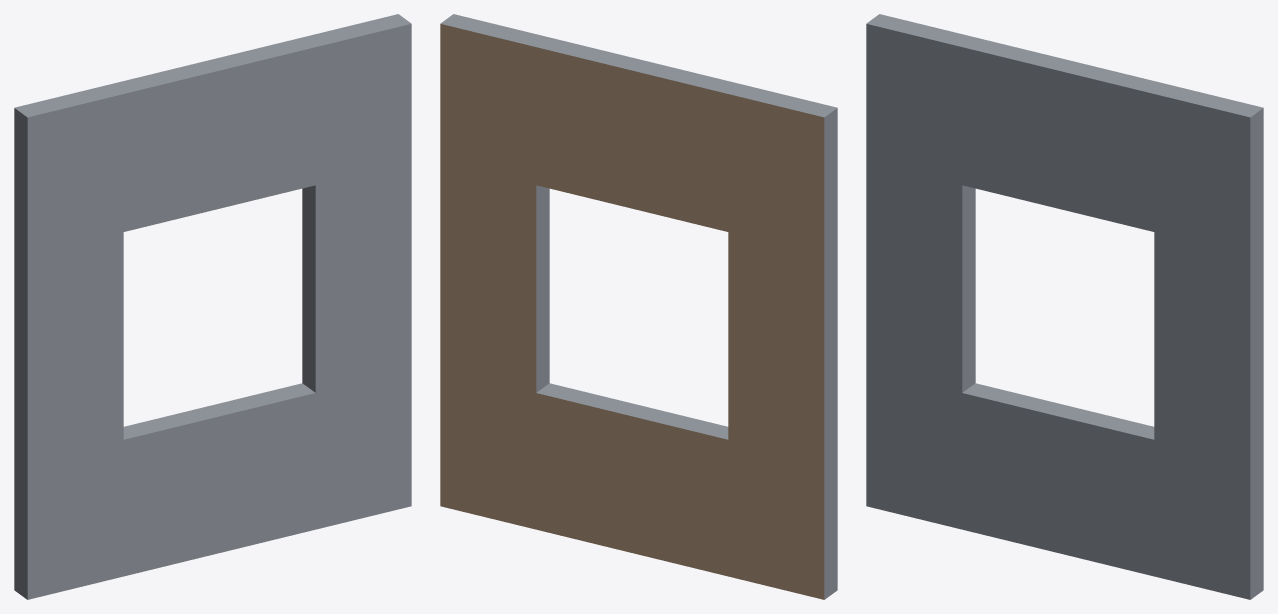
The model's file is Wall2_C6_04.fbx.
The picture shows the model from 3 angles, left to right: view 1: azimuth 30°, elevation 25°; view 2: azimuth 150°, elevation 25°; view 3: azimuth 330°, elevation 25°; orthographic projection.
Parts seen in each view (by area): view 1: Wall2_C6_04; view 2: Wall2_C6_04; view 3: Wall2_C6_04.
Boxes of the visible parts, bbox=[...] form: Wall2_C6_04: bbox=[14, 14, 411, 599]; Wall2_C6_04: bbox=[440, 14, 837, 599]; Wall2_C6_04: bbox=[866, 14, 1263, 599].
Size of the model in its own units: 250 by 300 by 15.
